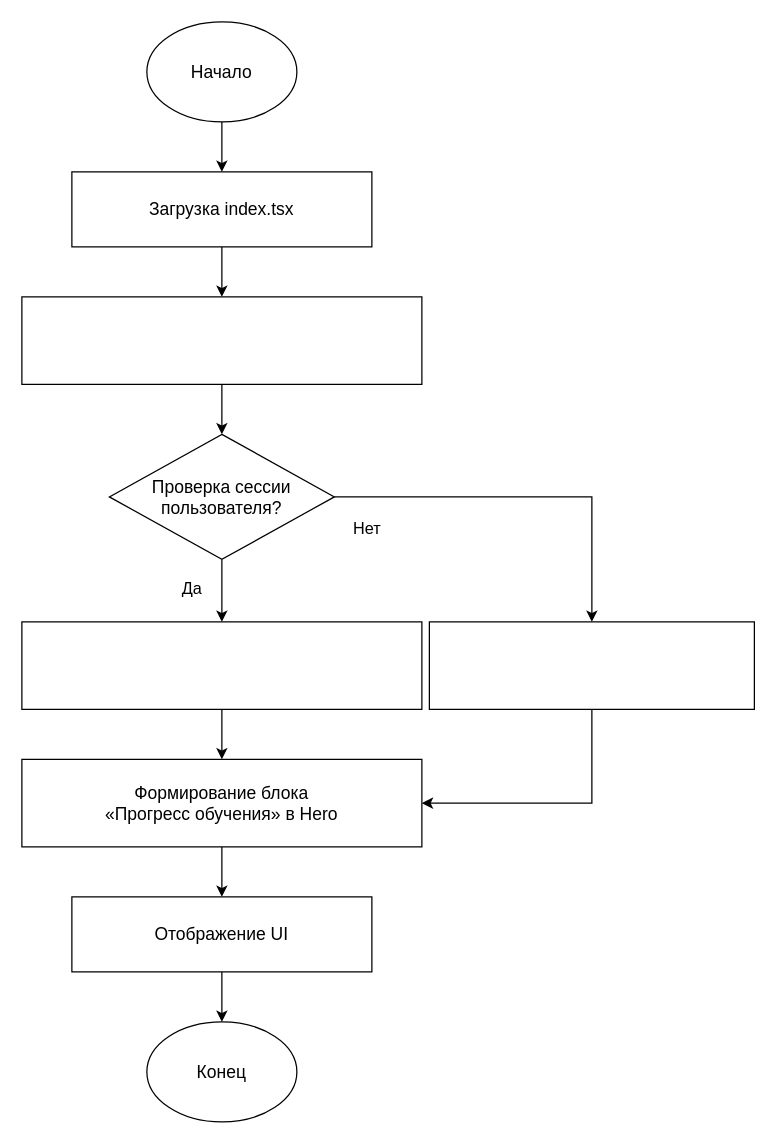
Some shapes in this 776 by 1144 pixel diagram are drawn without their labels. The centre of each missing label's shape, as x and y in pixels:
getCurrentUserFn, getMyCoursesFn → получение прогресса: the point at 221,665
Загрузка статических данных (направления, программы, метрики, FAQ): the point at 221,340
Отображение демонстрационных данных прогресса: the point at 591,665
